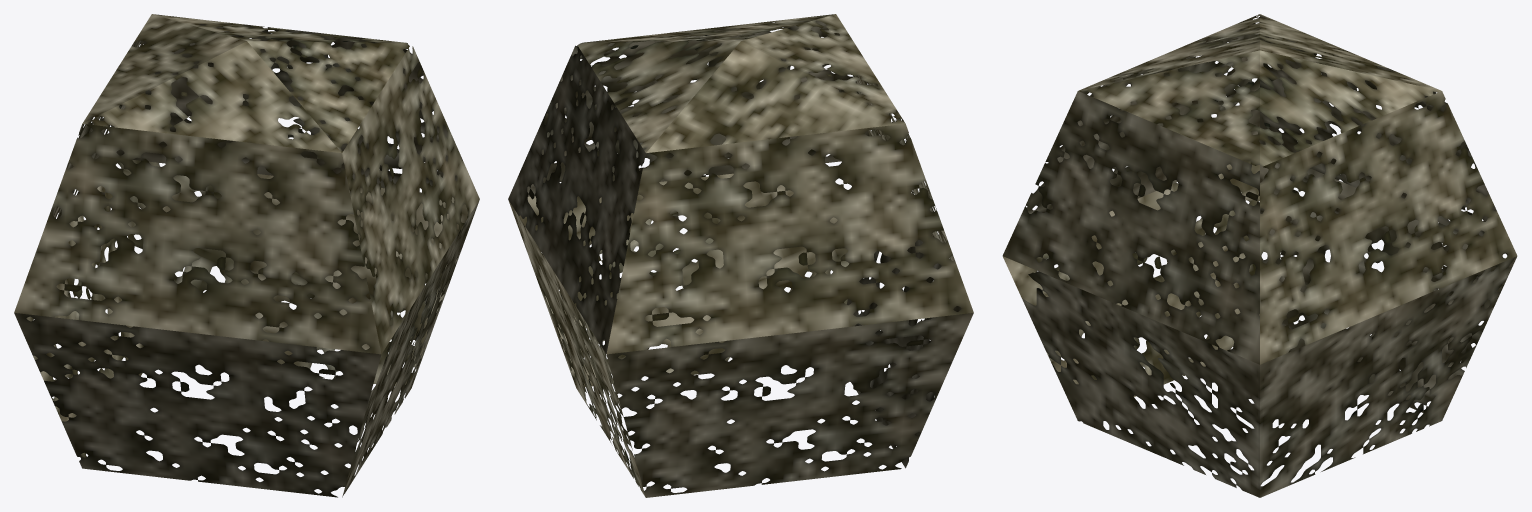
File: bush_end_dead..fbx
3 views of the same model, side by side, from view 1: azimuth 30°, elevation 25°; view 2: azimuth 150°, elevation 25°; view 3: azimuth 270°, elevation 25° (orthographic). The views are drawn at different scales.
Visible parts, largest first — view 1: bush_end_dead.; view 2: bush_end_dead.; view 3: bush_end_dead..
Part boxes in pixels (x1=…): bush_end_dead.: x1=14, y1=14, x2=479, y2=497; bush_end_dead.: x1=508, y1=14, x2=973, y2=497; bush_end_dead.: x1=1002, y1=14, x2=1517, y2=497.
Size of the model in its own units: 139 by 110 by 139.
Materials: 1 (1 with a texture image).
